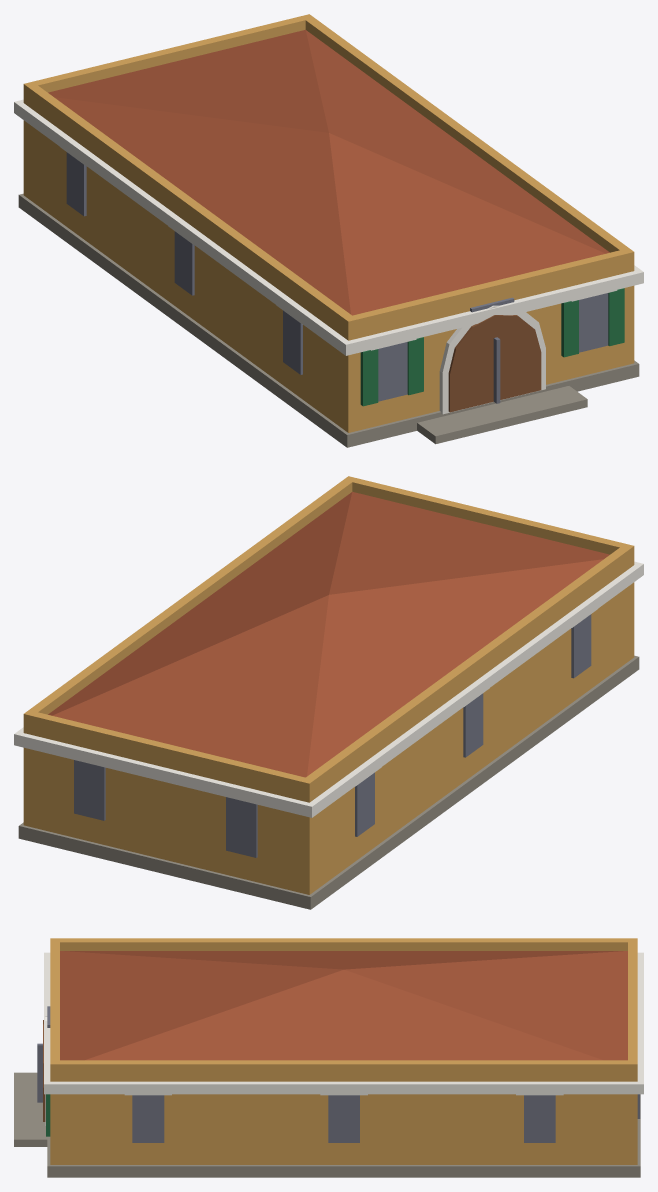
The model's file is house-1x2-1f-colonial-a.glb.
The picture shows the model from 3 angles, top to bottom: view 1: azimuth 30°, elevation 25°; view 2: azimuth 150°, elevation 25°; view 3: azimuth 270°, elevation 25°; orthographic projection. The views are drawn at different scales.
Parts seen in each view (by area): view 1: house-1x2-1f-colonial-a; view 2: house-1x2-1f-colonial-a; view 3: house-1x2-1f-colonial-a.
Part boxes in pixels (bbox=[...]): house-1x2-1f-colonial-a: bbox=[14, 14, 643, 447]; house-1x2-1f-colonial-a: bbox=[14, 476, 643, 909]; house-1x2-1f-colonial-a: bbox=[14, 938, 643, 1177].
Size of the model in its own units: 0.98 by 0.5 by 1.99.
1 material, 1 textured.
